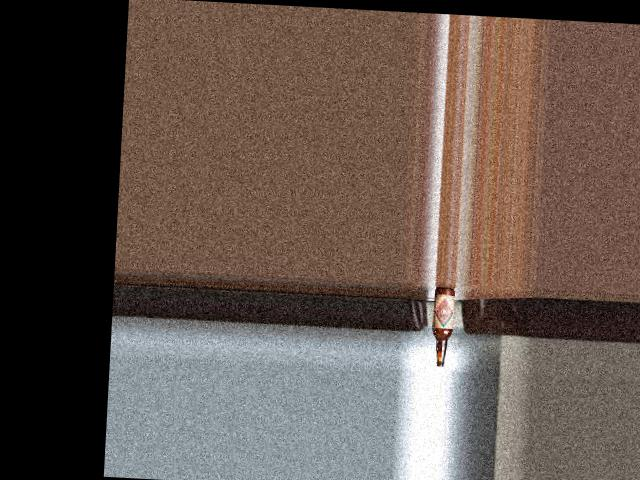beer: (430, 286, 453, 366)
